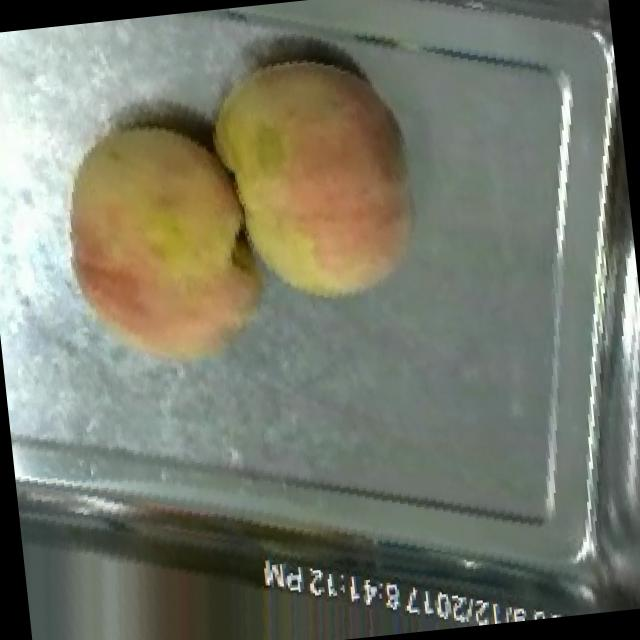Fruit: (17, 83, 304, 410), (172, 17, 458, 342)
